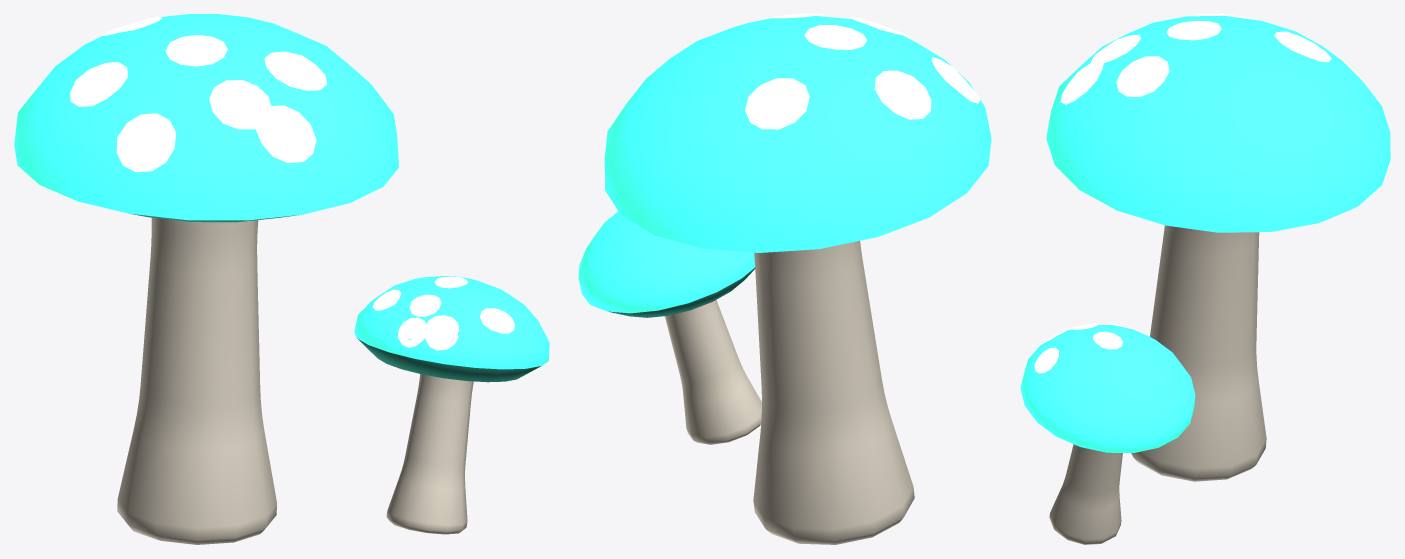
File: glow_mushroom.glb
3 renders of one model, left to right at view 1: azimuth 30°, elevation 25°; view 2: azimuth 150°, elevation 25°; view 3: azimuth 270°, elevation 25°, orthographic. The views are drawn at different scales.
Visible parts, largest first — view 1: glow_mushroom; view 2: glow_mushroom; view 3: glow_mushroom.
Part boxes in pixels (<box>): glow_mushroom: <box>14,14,549,544</box>; glow_mushroom: <box>578,14,991,544</box>; glow_mushroom: <box>1020,14,1390,544</box>.
Bounding box in the file's own units: 1.43 × 1.52 × 1.18.
